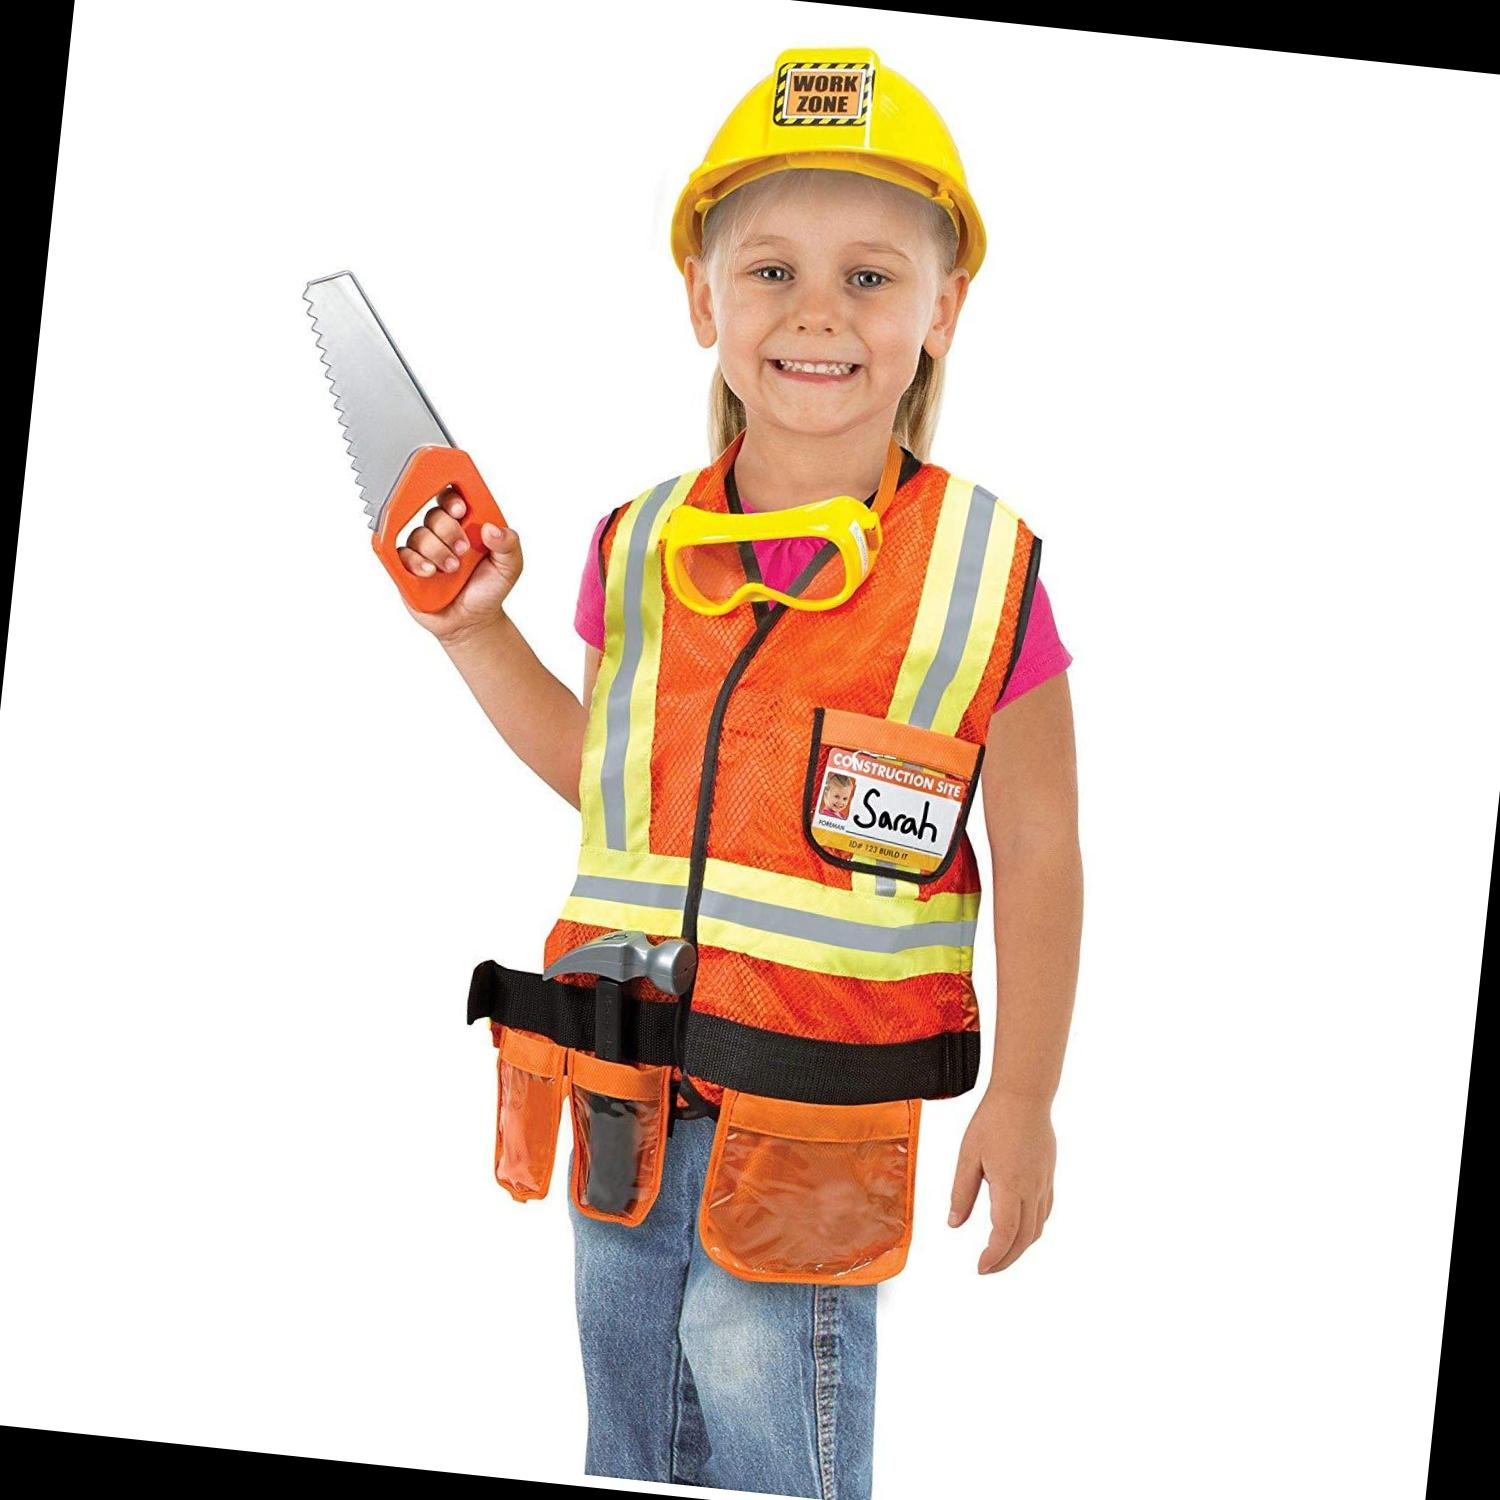Vest: (507, 430, 1034, 1312)
